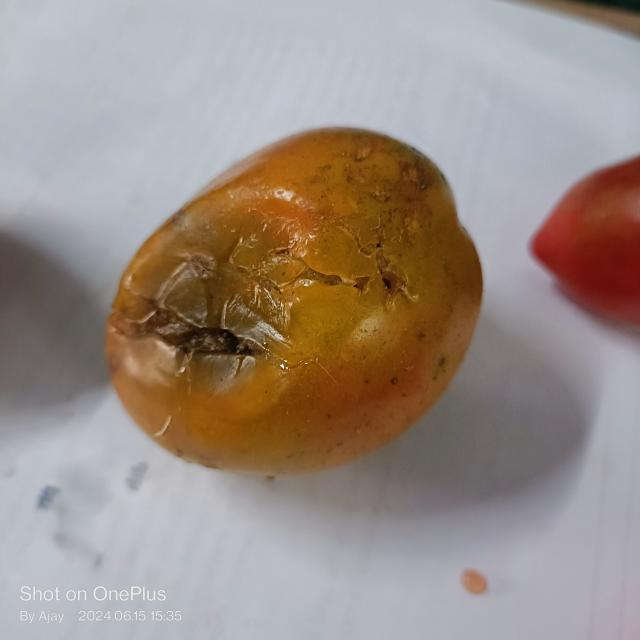Botrytis: (119, 217, 402, 373)
